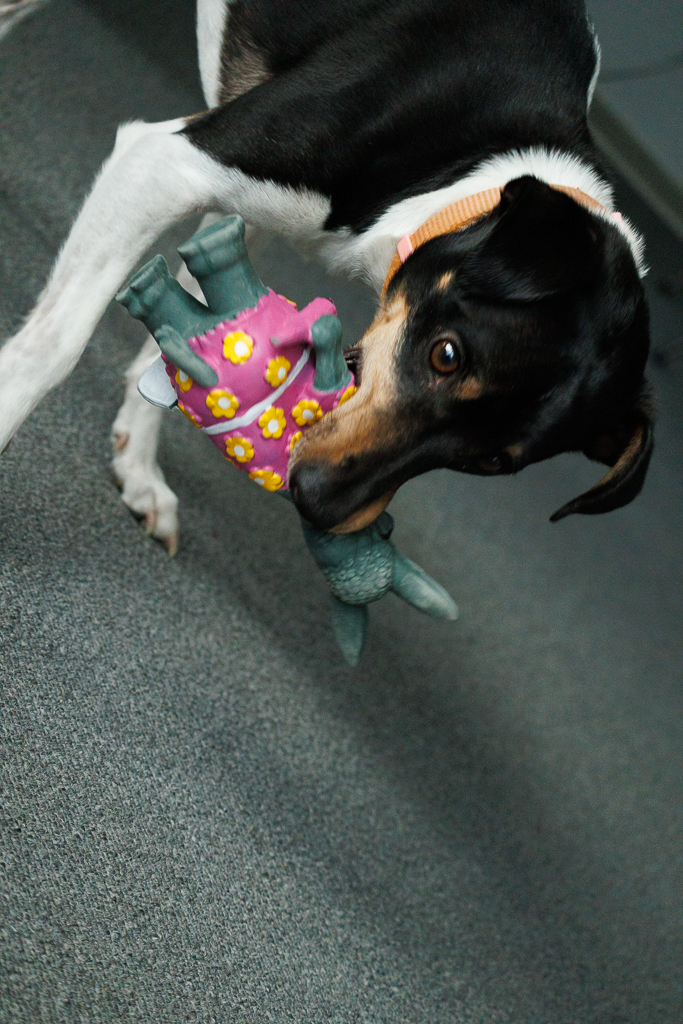Dog: (0, 0, 670, 566)
Humanoid: (103, 205, 475, 682)
